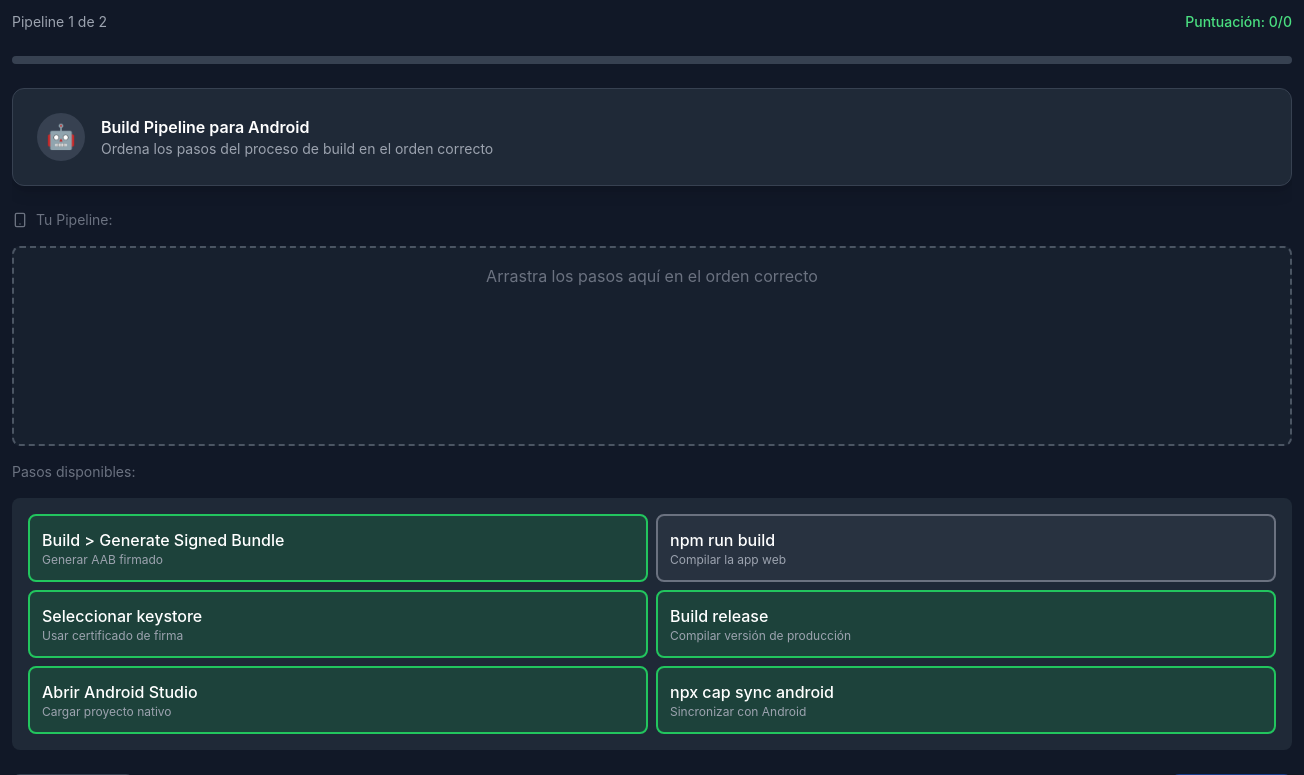
it: BuildPipeline › interaction › should move step to pipeline on click
The image size is (1304, 775).
# Find and click a step
Click the text "npm run build".
click(723, 540)  # box top-left (670, 530), bottom-right (775, 550)
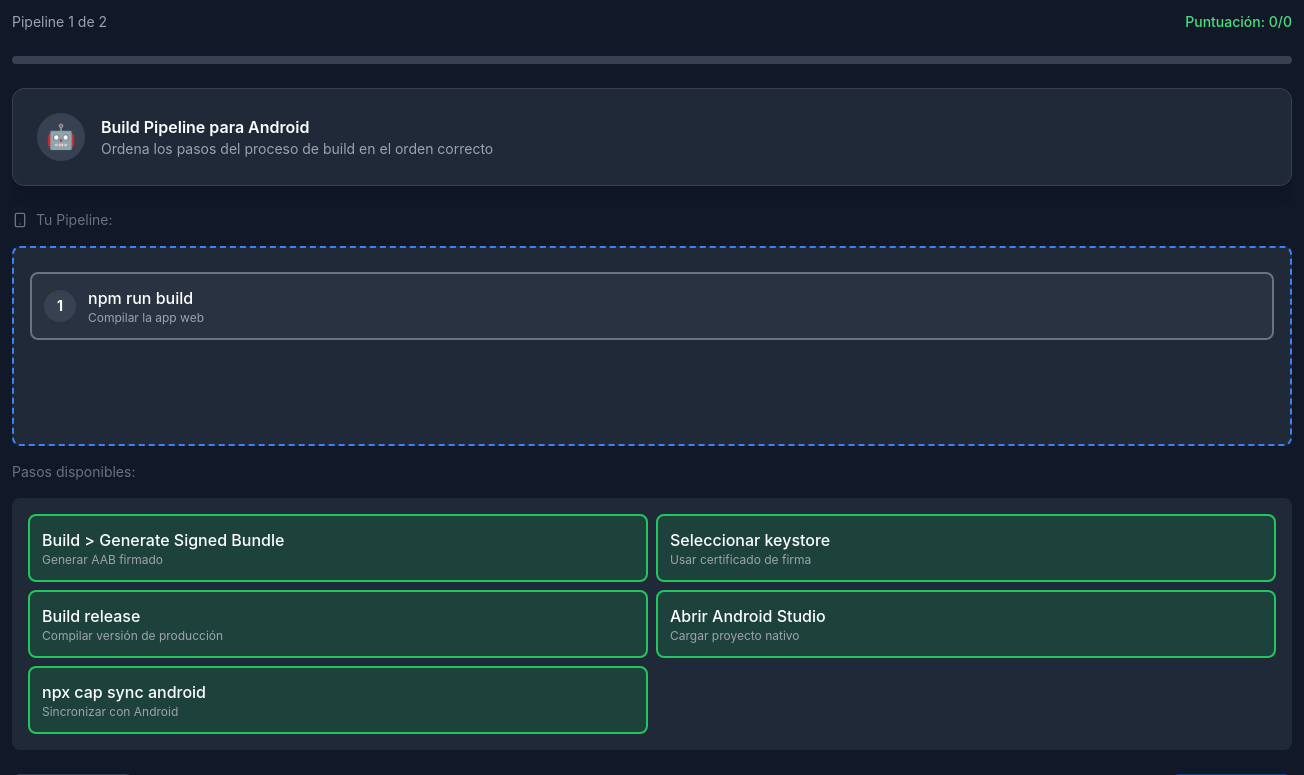
Expected: the text "1" is shown, top-left (44, 290), bottom-right (76, 322)
